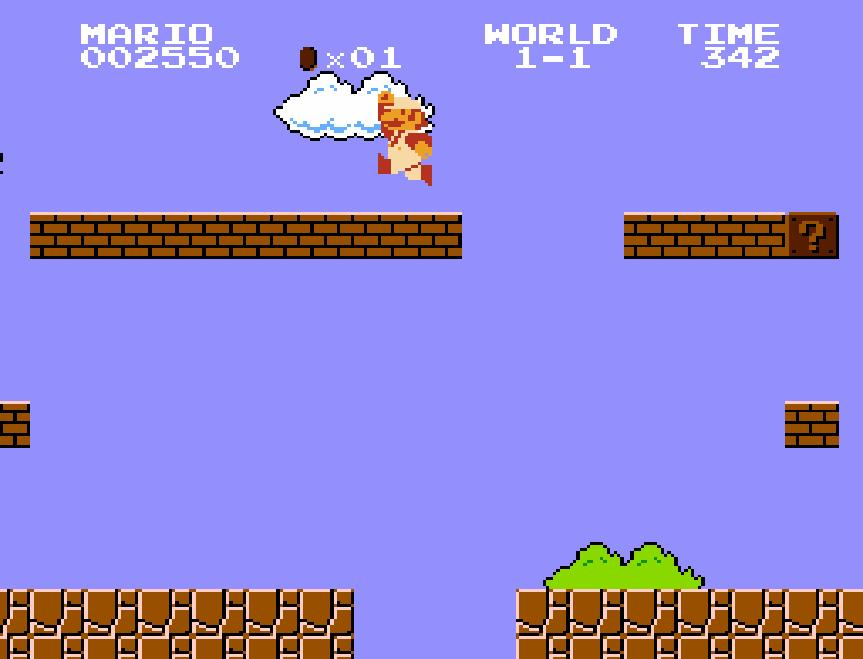fire_mario: (376, 88, 434, 186)
